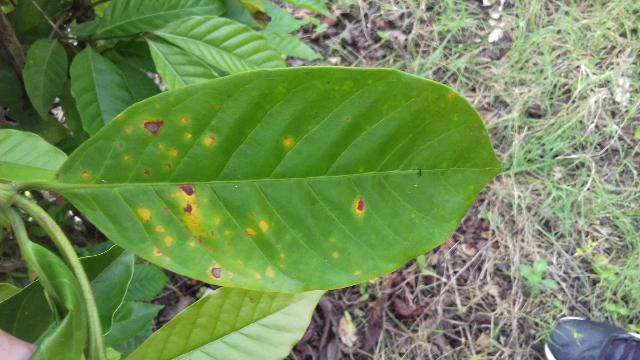rust_level_1: (56, 68, 509, 292)
